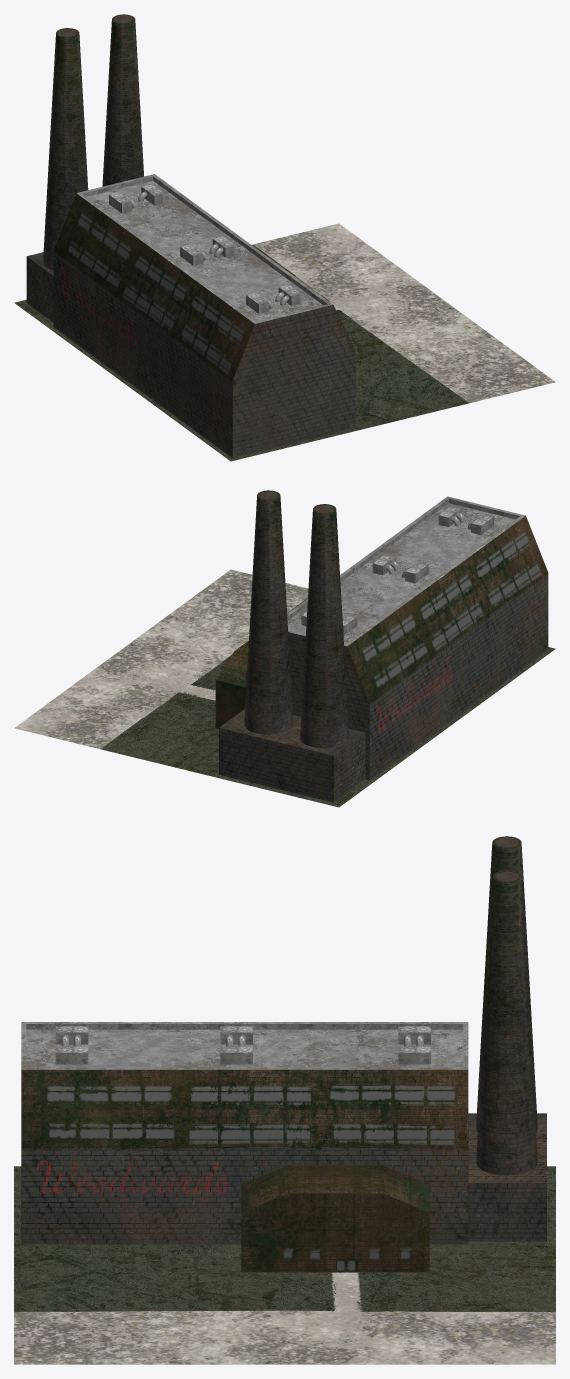
Rendered from factory_plant.glb.
3 renders of one model, top to bottom at view 1: azimuth 30°, elevation 25°; view 2: azimuth 150°, elevation 25°; view 3: azimuth 270°, elevation 25°, orthographic. The views are drawn at different scales.
Parts seen in each view (by area): view 1: factory_plant; view 2: factory_plant; view 3: factory_plant.
Boxes of the visible parts, x1=… form: factory_plant: x1=14, y1=14, x2=555, y2=461; factory_plant: x1=14, y1=490, x2=555, y2=807; factory_plant: x1=14, y1=836, x2=555, y2=1364.
Size of the model in its own units: 51.93 by 42.6 by 60.
Materials: 1 (1 with a texture image).
